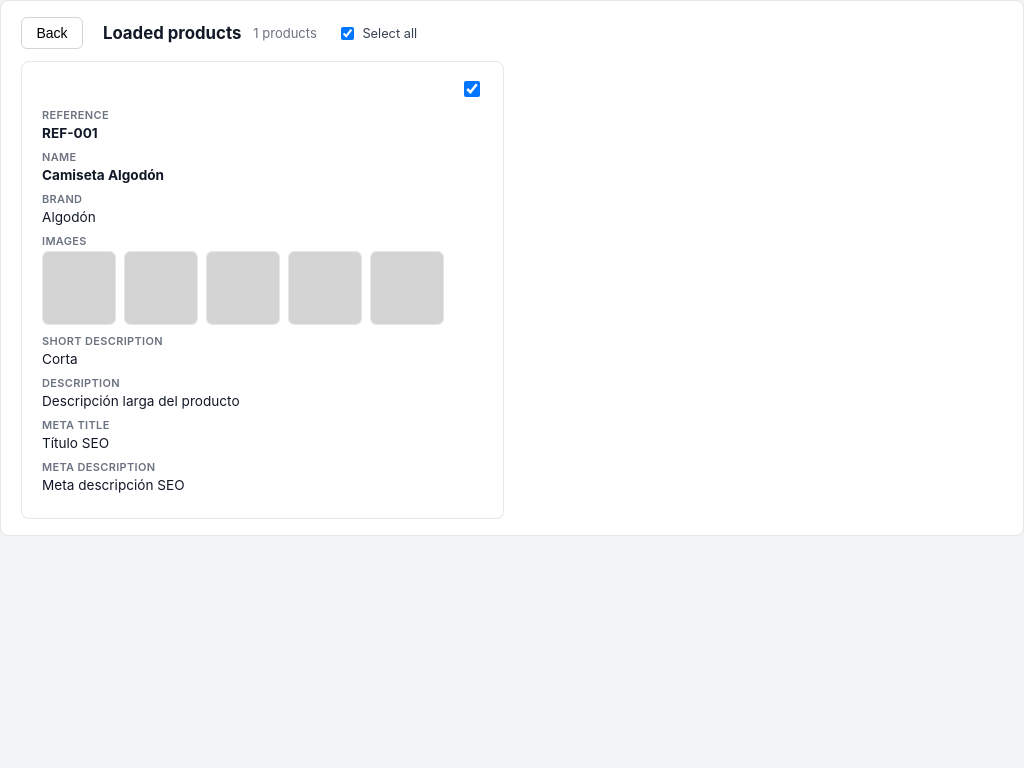
Scenario: ProductsViewPage › saves edits, reflects them in the grid and marks the edited field
Click the button "Camiseta Algodón" at (40, 80), box [21,61,504,519]
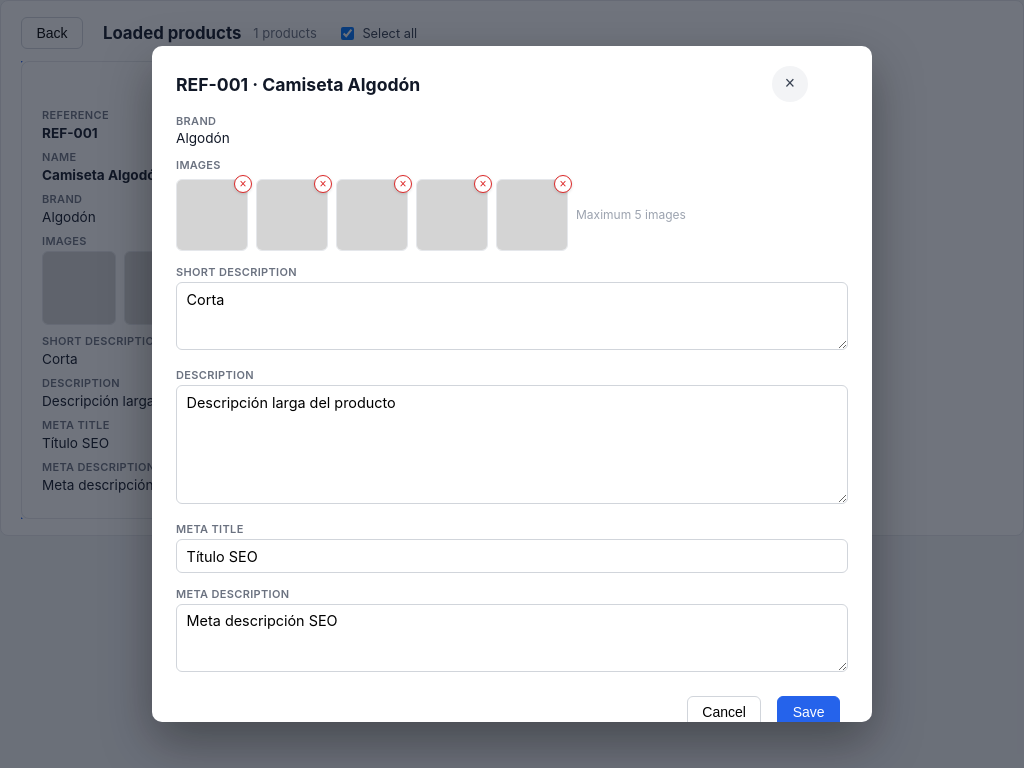
Replace the text in the field labelled "Meta title" with "Nuevo título SEO" at (512, 556), box [176,539,848,573]
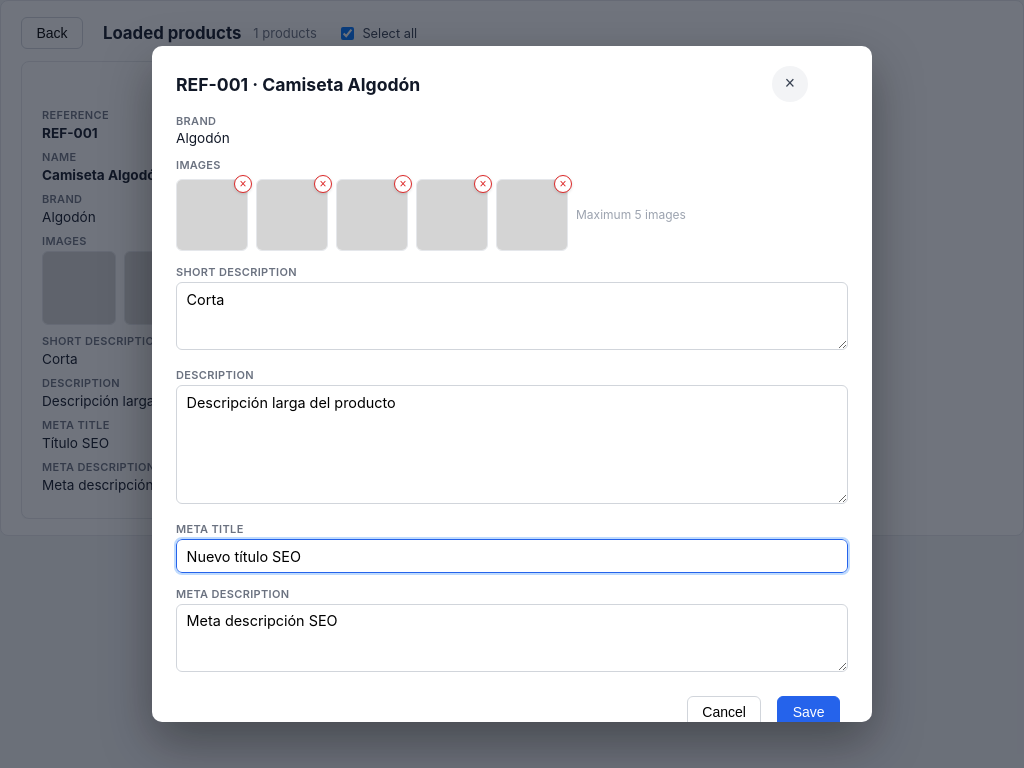
Click the button "Save" at (809, 712), box [777,696,840,728]
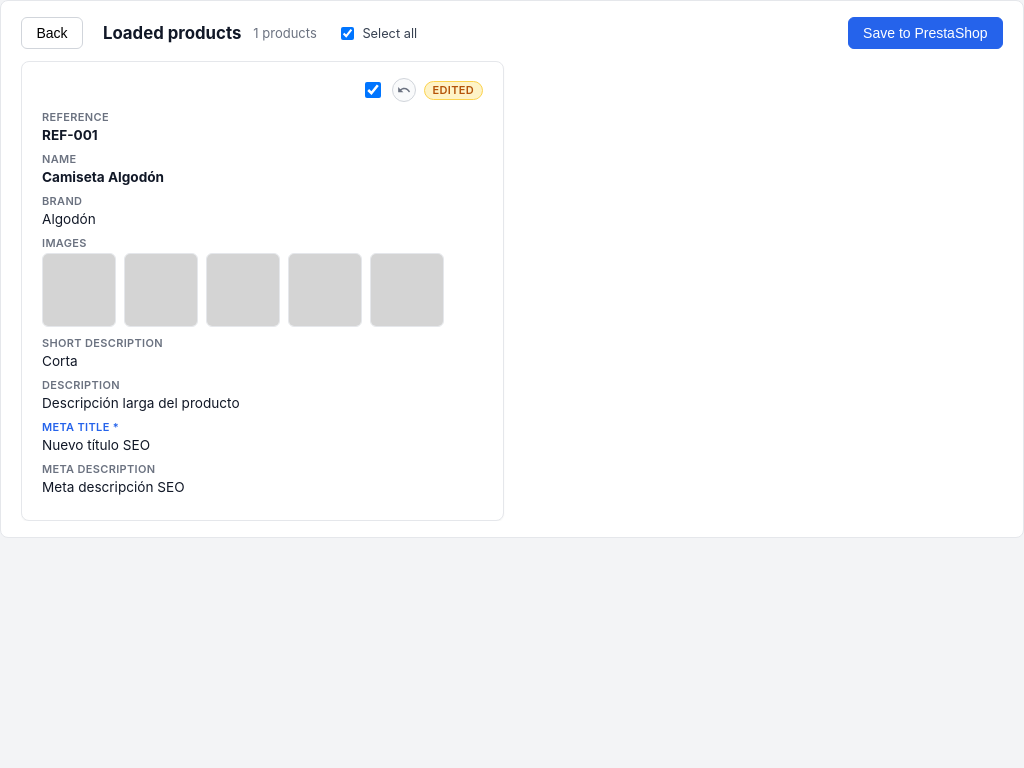
Check: the dialog is gone
Check: the text "Nuevo título SEO" is shown, box [42,437,150,453]
Check: the text "Edited" is shown, box [424,81,483,100]
